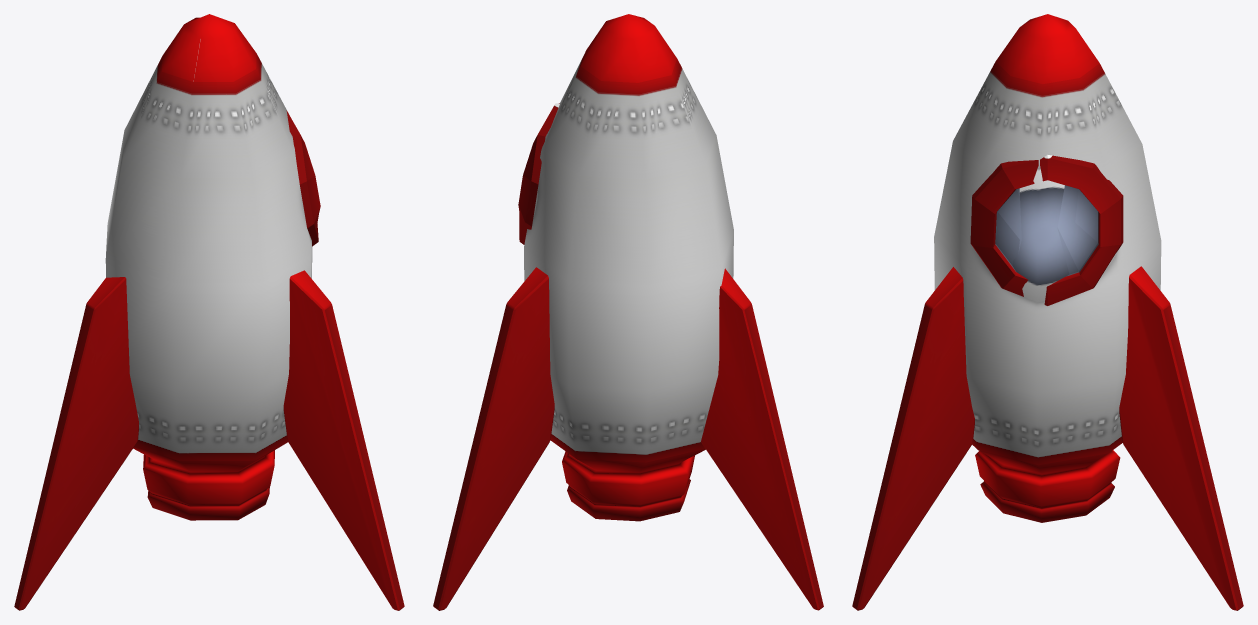
The model's file is spaceship.fbx.
3 renders of one model, left to right at view 1: azimuth 30°, elevation 25°; view 2: azimuth 150°, elevation 25°; view 3: azimuth 270°, elevation 25°, orthographic.
Visible parts, largest first — view 1: polySurface17; view 2: polySurface17; view 3: polySurface17.
Boxes of the visible parts, x1,y1,x2,y2 form: polySurface17: [14, 14, 404, 610]; polySurface17: [433, 14, 823, 610]; polySurface17: [852, 14, 1243, 610].
Size of the model in its own units: 2.73 by 4.86 by 3.14.
